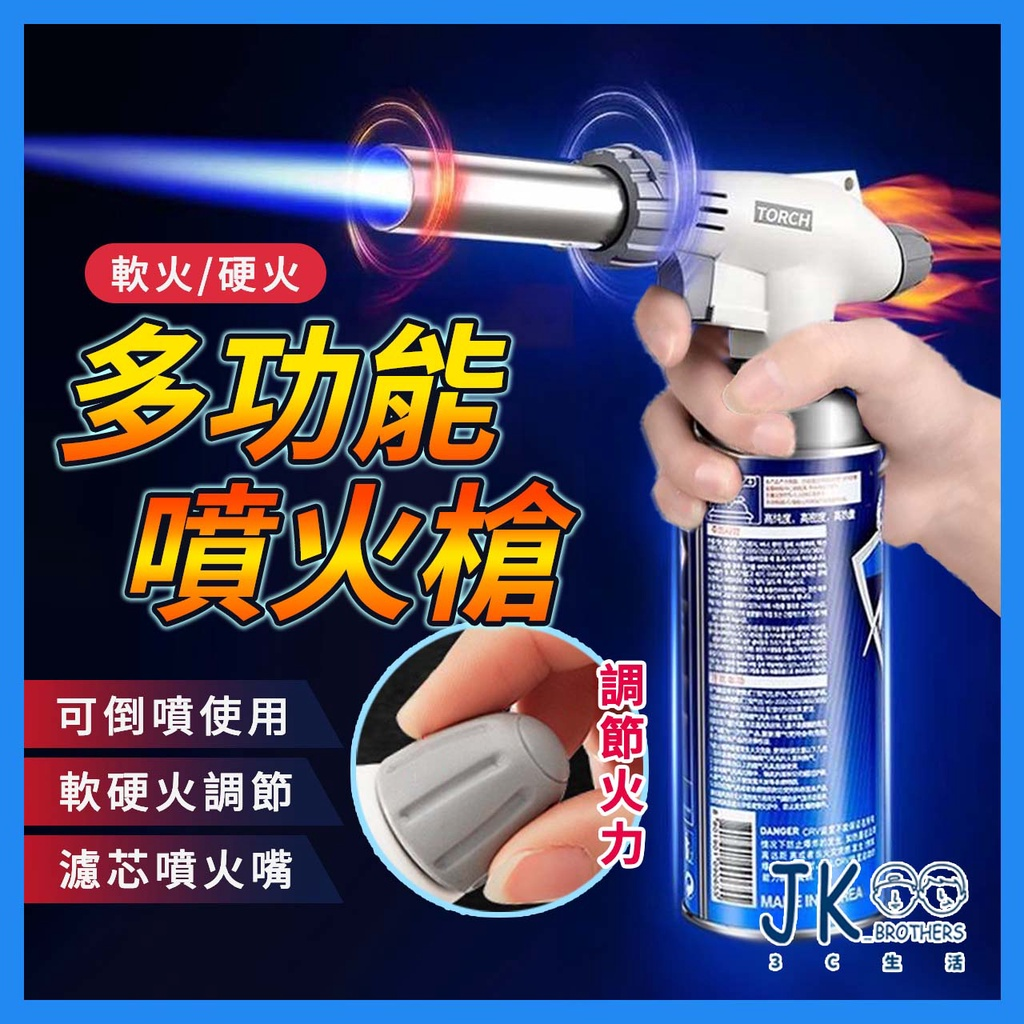gastorch: (361, 125, 937, 935)
